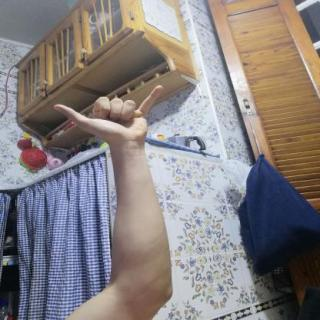YA: (45, 77, 177, 152)
